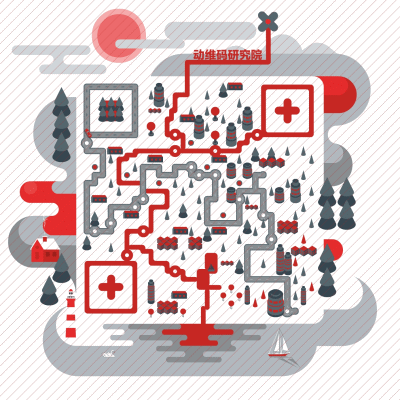QRCode: (78, 77, 322, 321)
